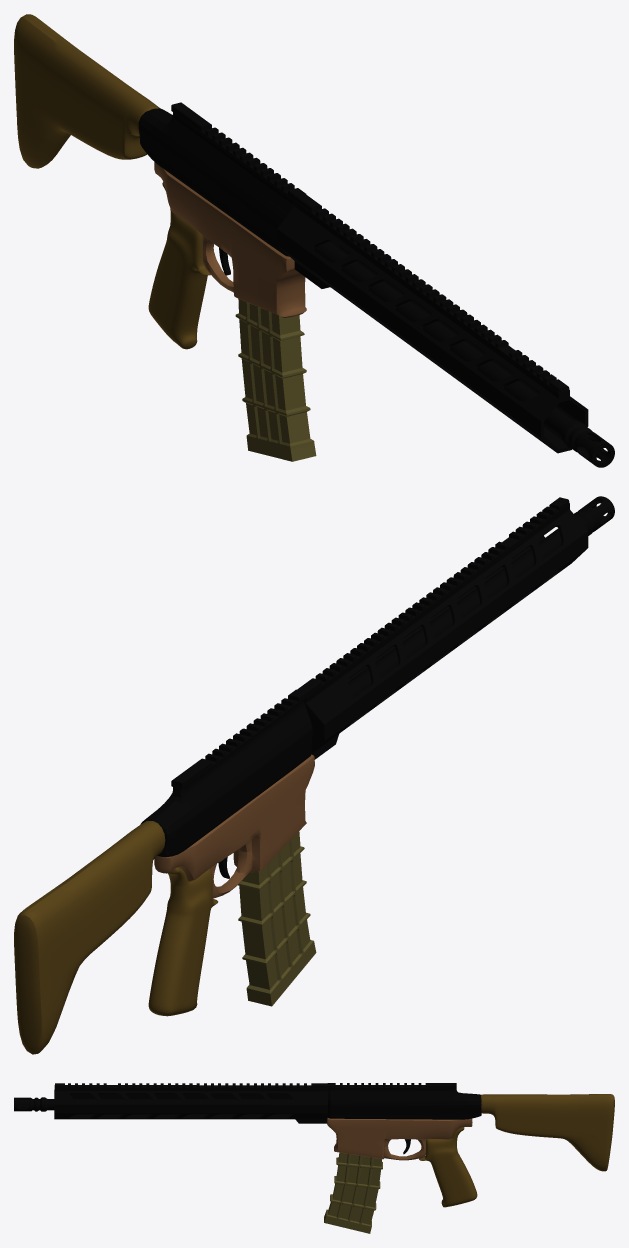
File: gun.glb
3 renders of one model, top to bottom at view 1: azimuth 30°, elevation 25°; view 2: azimuth 150°, elevation 25°; view 3: azimuth 270°, elevation 25°, orthographic. The views are drawn at different scales.
Visible parts, largest first — view 1: gun_handguard_object, gun_stock_object, gun_bolt_object.001, gun_magazine_object, gun_bolt_object.002, gun_grip_object, gun_barrel_object; view 2: gun_handguard_object, gun_stock_object, gun_bolt_object.001, gun_magazine_object, gun_bolt_object.002, gun_grip_object, gun_barrel_object; view 3: gun_handguard_object, gun_stock_object, gun_bolt_object.001, gun_bolt_object.002, gun_magazine_object, gun_grip_object, gun_barrel_object.
Boxes of the visible parts, x1,y1,x2,y2 form: gun_handguard_object: [277, 194, 588, 453]; gun_stock_object: [14, 14, 159, 168]; gun_bolt_object.001: [138, 102, 305, 256]; gun_magazine_object: [235, 298, 316, 461]; gun_bolt_object.002: [154, 162, 306, 317]; gun_grip_object: [148, 182, 210, 349]; gun_barrel_object: [314, 241, 614, 467]; gun_handguard_object: [297, 497, 588, 759]; gun_stock_object: [14, 821, 165, 1054]; gun_bolt_object.001: [140, 689, 312, 856]; gun_magazine_object: [238, 831, 316, 1006]; gun_bolt_object.002: [154, 754, 314, 898]; gun_grip_object: [148, 867, 218, 1016]; gun_barrel_object: [348, 496, 614, 697]; gun_handguard_object: [54, 1083, 327, 1123]; gun_stock_object: [481, 1094, 614, 1171]; gun_bolt_object.001: [327, 1083, 481, 1119]; gun_bolt_object.002: [327, 1118, 472, 1160]; gun_magazine_object: [324, 1152, 382, 1233]; gun_grip_object: [419, 1127, 477, 1207]; gun_barrel_object: [14, 1097, 294, 1111].
Bounding box in the file's own units: 0.0532 × 0.3038 × 1.13.
